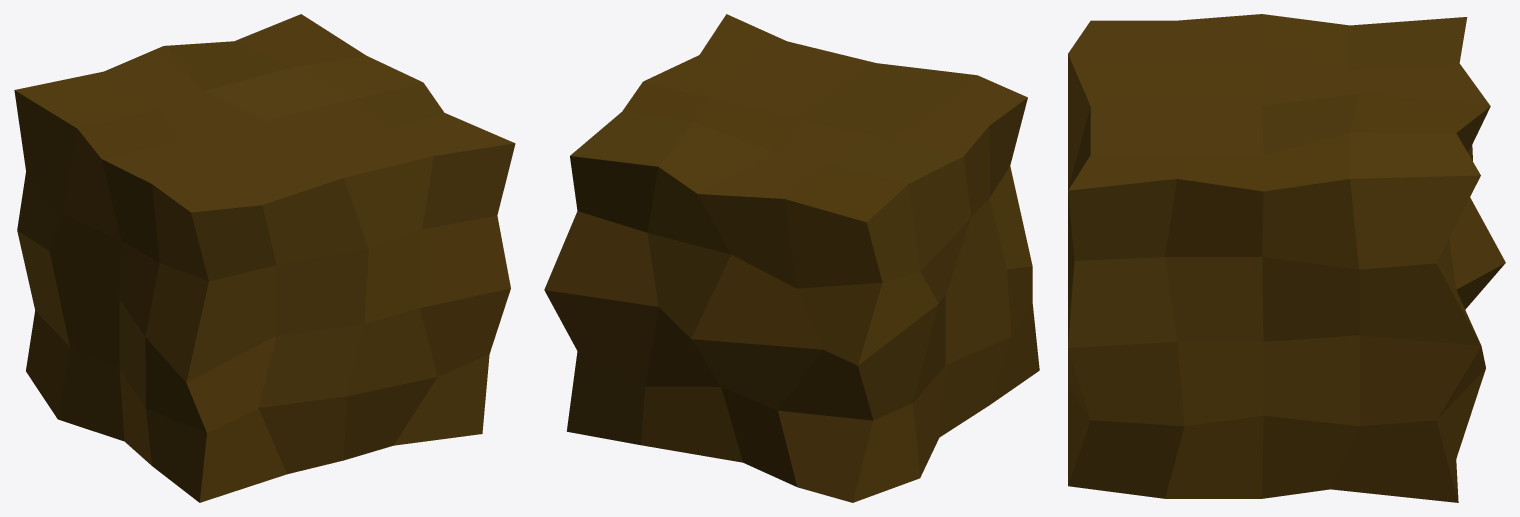
Rendered from RockBlock1.fbx.
3 views of the same model, side by side, from view 1: azimuth 30°, elevation 25°; view 2: azimuth 150°, elevation 25°; view 3: azimuth 270°, elevation 25° (orthographic). The views are drawn at different scales.
Parts seen in each view (by area): view 1: Cube.001; view 2: Cube.001; view 3: Cube.001.
Part boxes in pixels (left/top/right/bottom): Cube.001: left=14, top=14, right=515, bottom=502; Cube.001: left=544, top=14, right=1039, bottom=502; Cube.001: left=1068, top=14, right=1505, bottom=502.
Bounding box in the file's own units: 252 × 212 × 253.
